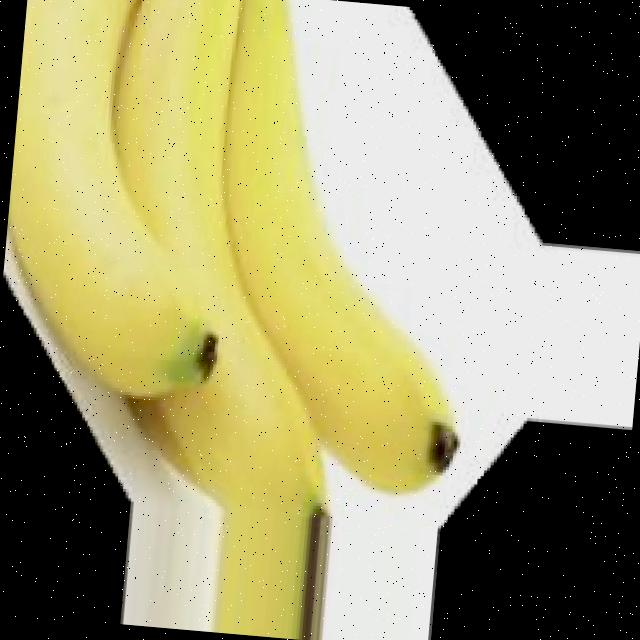banana: (0, 0, 518, 563)
